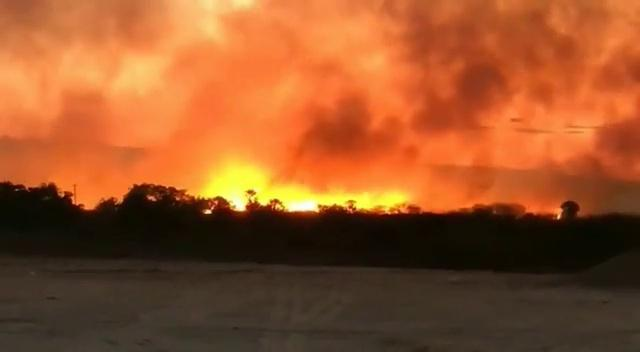fire: (277, 192, 324, 216), (215, 182, 252, 212)
